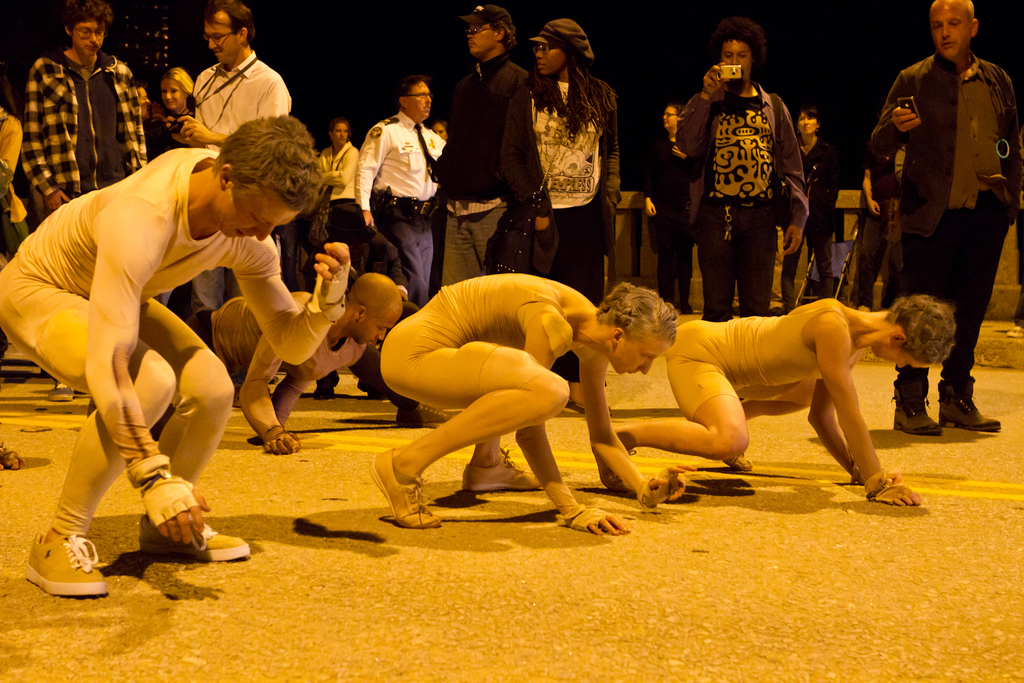Person: (0, 0, 1023, 597)
